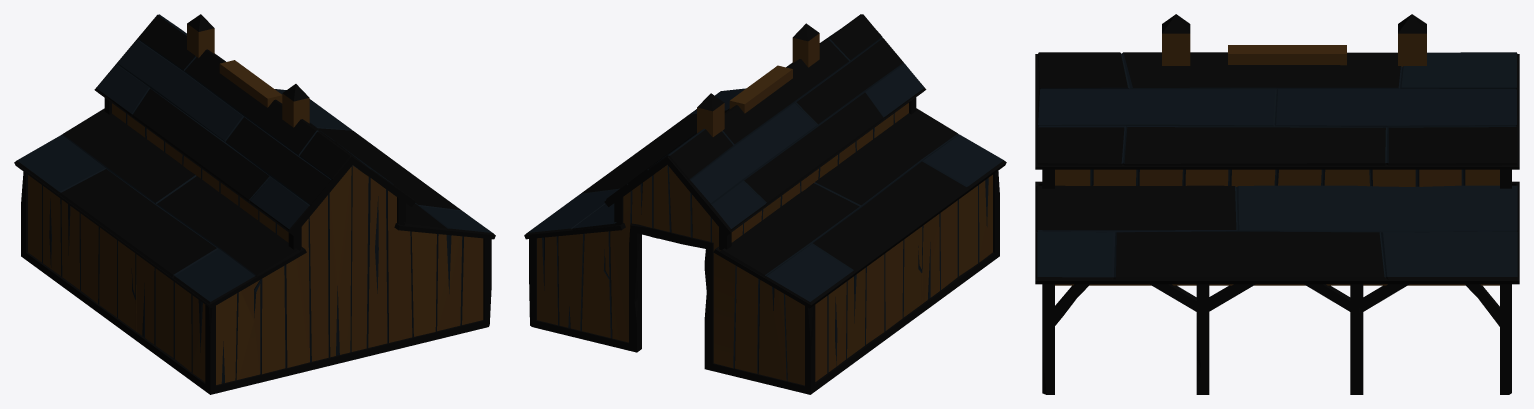
File: Shed_3.fbx
3 views of the same model, side by side, from view 1: azimuth 30°, elevation 25°; view 2: azimuth 150°, elevation 25°; view 3: azimuth 270°, elevation 25° (orthographic). The views are drawn at different scales.
Parts seen in each view (by area): view 1: Shed_3; view 2: Shed_3; view 3: Shed_3.
Boxes of the visible parts, bbox=[...] form: Shed_3: bbox=[14, 14, 495, 394]; Shed_3: bbox=[524, 14, 1006, 394]; Shed_3: bbox=[1035, 14, 1519, 394].
Bounding box in the file's own units: 209 × 166 × 247.
